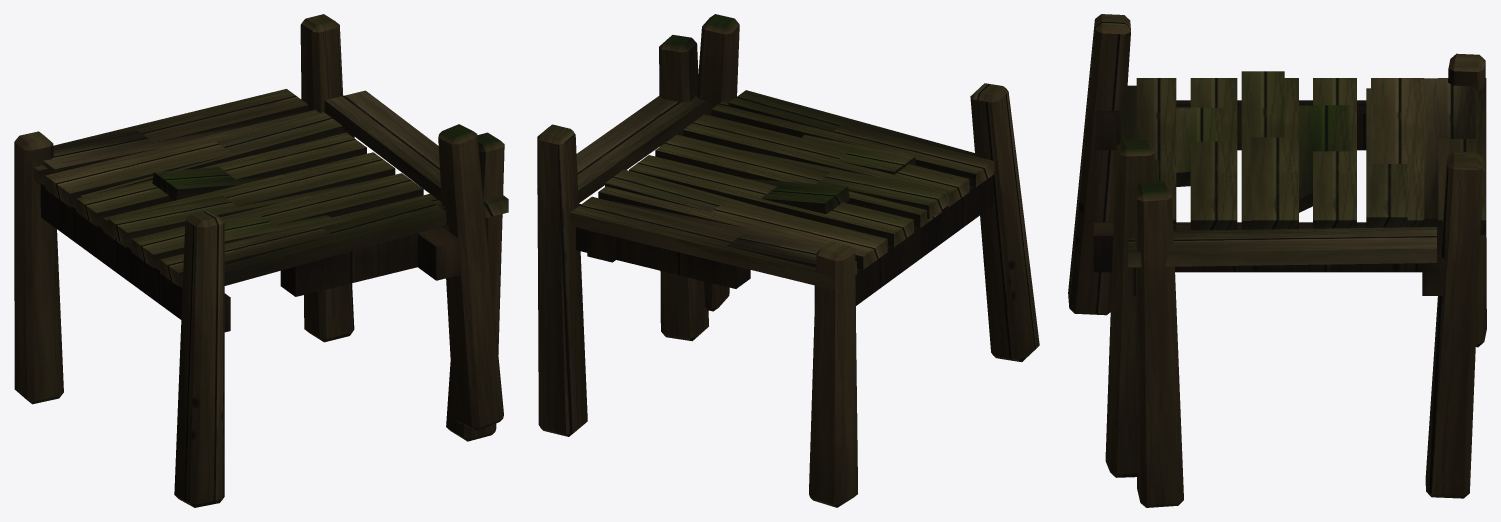
Rendered from mirewell_boardwalk_corner.glb.
3 views of the same model, side by side, from view 1: azimuth 30°, elevation 25°; view 2: azimuth 150°, elevation 25°; view 3: azimuth 270°, elevation 25° (orthographic). The views are drawn at different scales.
Parts seen in each view (by area): view 1: mirewell_boardwalk_corner; view 2: mirewell_boardwalk_corner; view 3: mirewell_boardwalk_corner.
Boxes of the visible parts, <box> form: mirewell_boardwalk_corner: <box>14,14,508,507</box>; mirewell_boardwalk_corner: <box>537,14,1039,507</box>; mirewell_boardwalk_corner: <box>1068,14,1486,507</box>.
Bounding box in the file's own units: 1.08 × 0.9467 × 1.04.
Materials: 1 (1 with a texture image).
